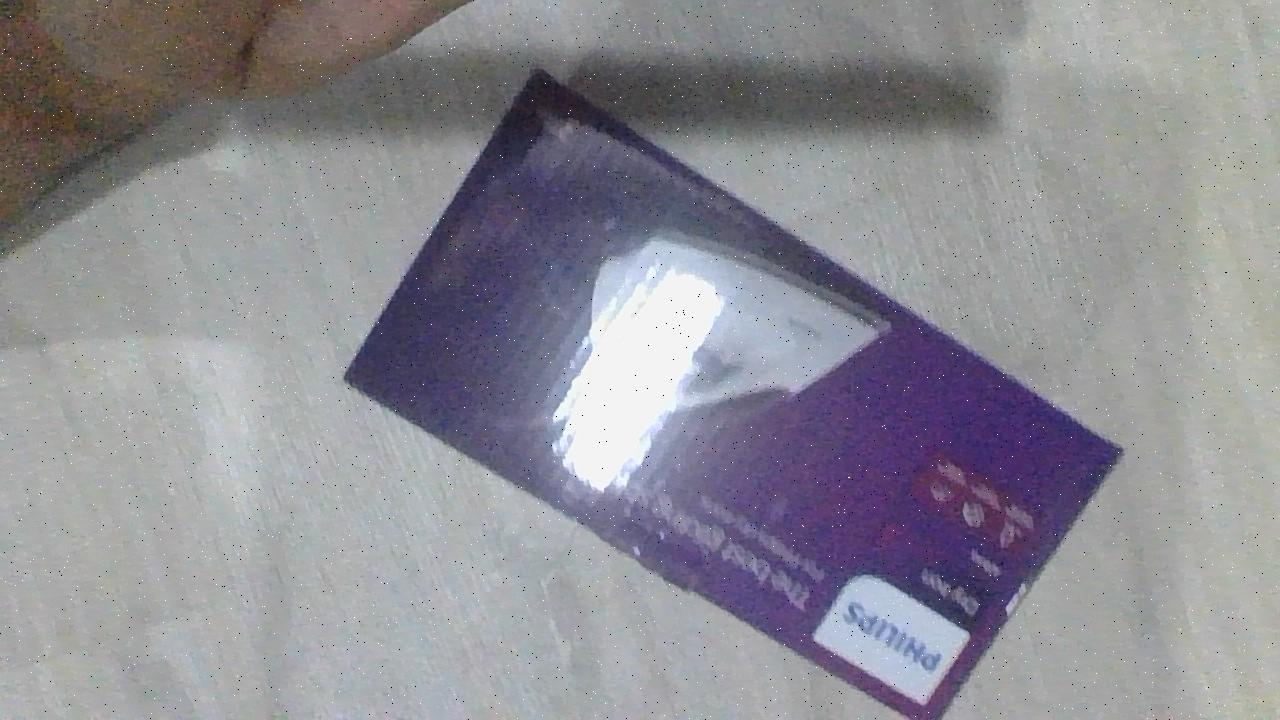IRON: (340, 64, 1128, 718)
